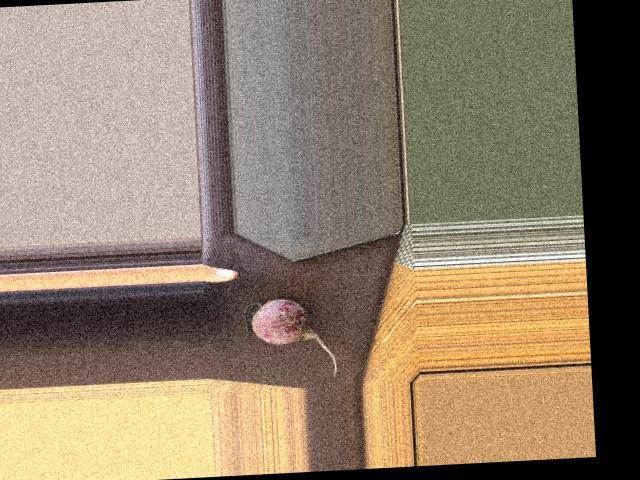beet: (235, 296, 338, 379)
